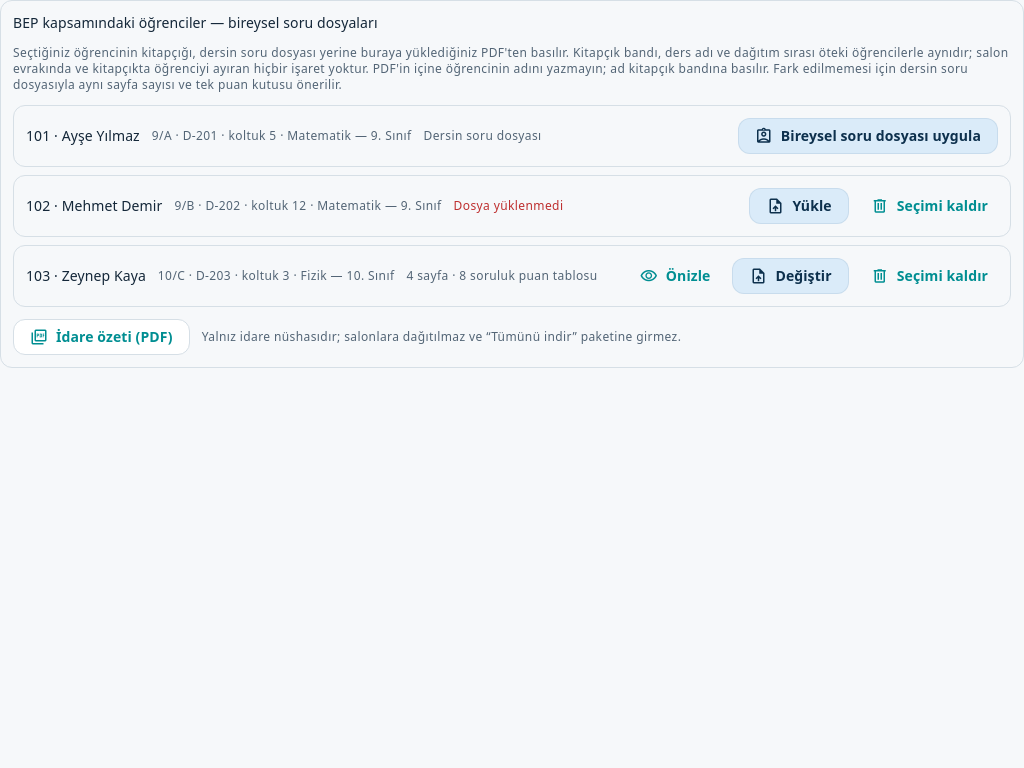
Test: BireyselSorularBolumu — işlemler › “Seçimi kaldır” onaydan geçer; onay metninde öğrenci adı ve okul numarası yok
What coordinates should you click on to do the following:
click the button "Seçimi kaldır" in the row of "103"
I would click on:
 (929, 276)
Its box is x1=861 y1=258 x2=998 y2=294.
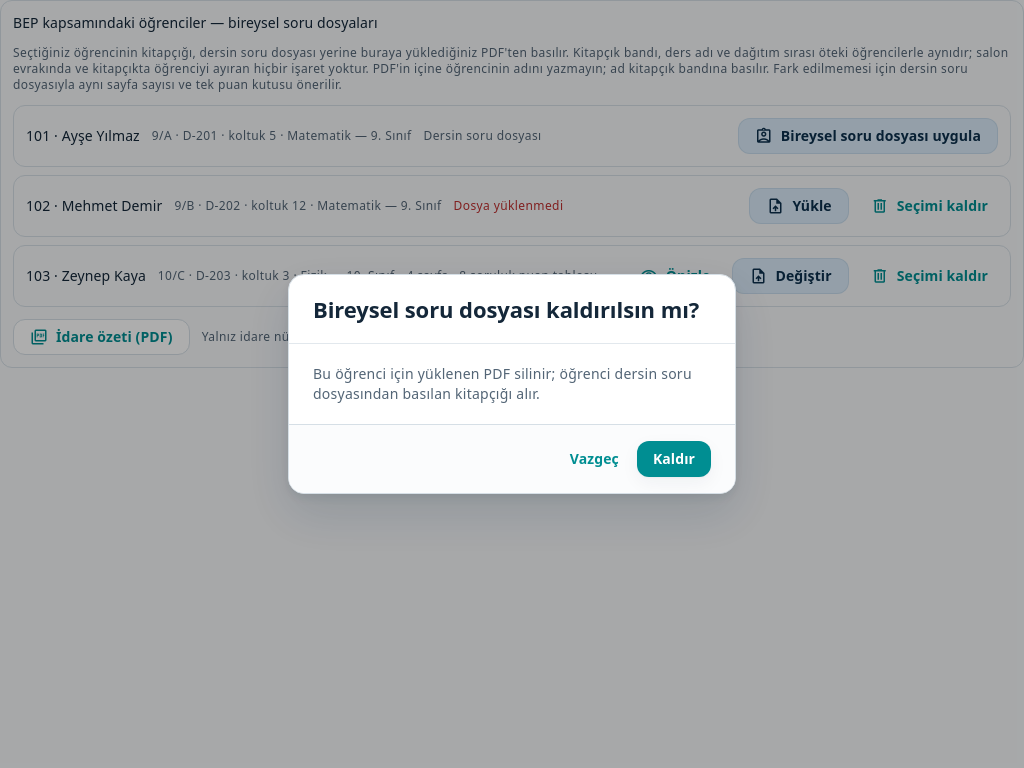
Expected: the dialog "Bireysel soru dosyası kaldırılsın mı?" shows "Bu öğrenci için yüklenen PDF silinir; öğrenci dersin soru dosyasından basılan kitapçığı alır.", x1=313 y1=364 x2=692 y2=403
What coordinates should you click on to do the following:
click the button "Kaldır"
I would click on:
 (674, 459)
Its box is x1=637 y1=441 x2=711 y2=477.
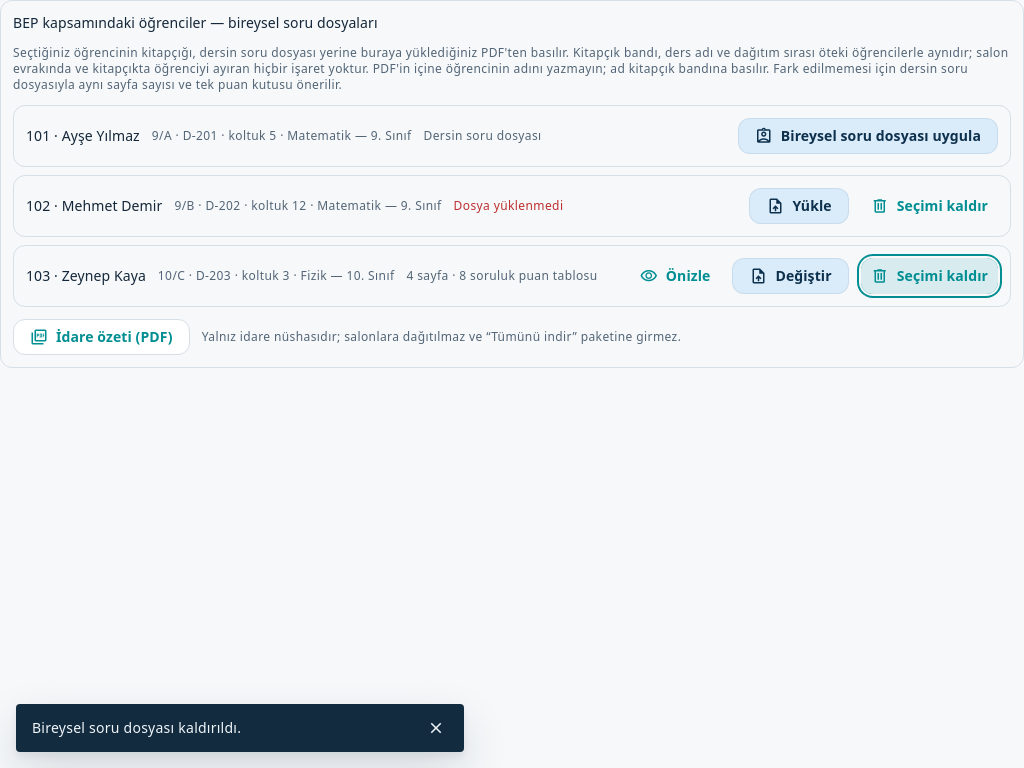
Expected: the text "Bireysel soru dosyası kaldırıldı." is shown, x1=32 y1=718 x2=241 y2=737
